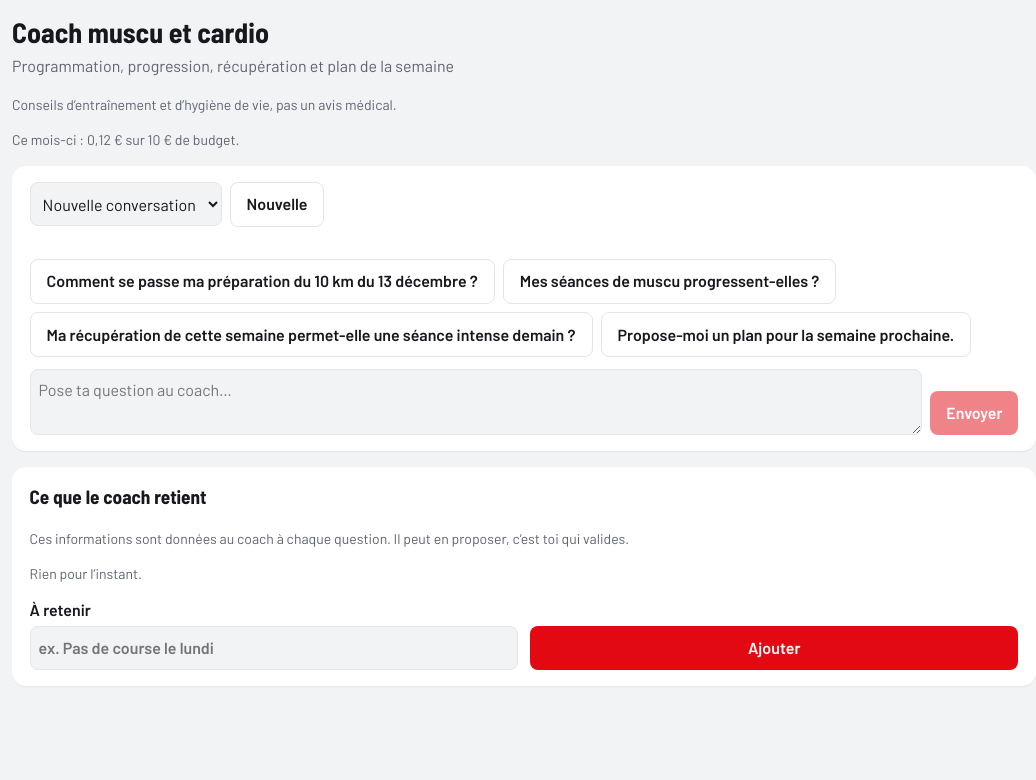
Scenario: CoachPage › streams an answer with the data the coach read, and shows the cost
Check: the text "Ce mois-ci : 0,12 € sur 10 € de budget." is shown, box [12,131,239,148]
Type "Comment je dors ?" into the text box labelled "ta question" at (476, 402), box [30,369,922,435]
Then press Enter
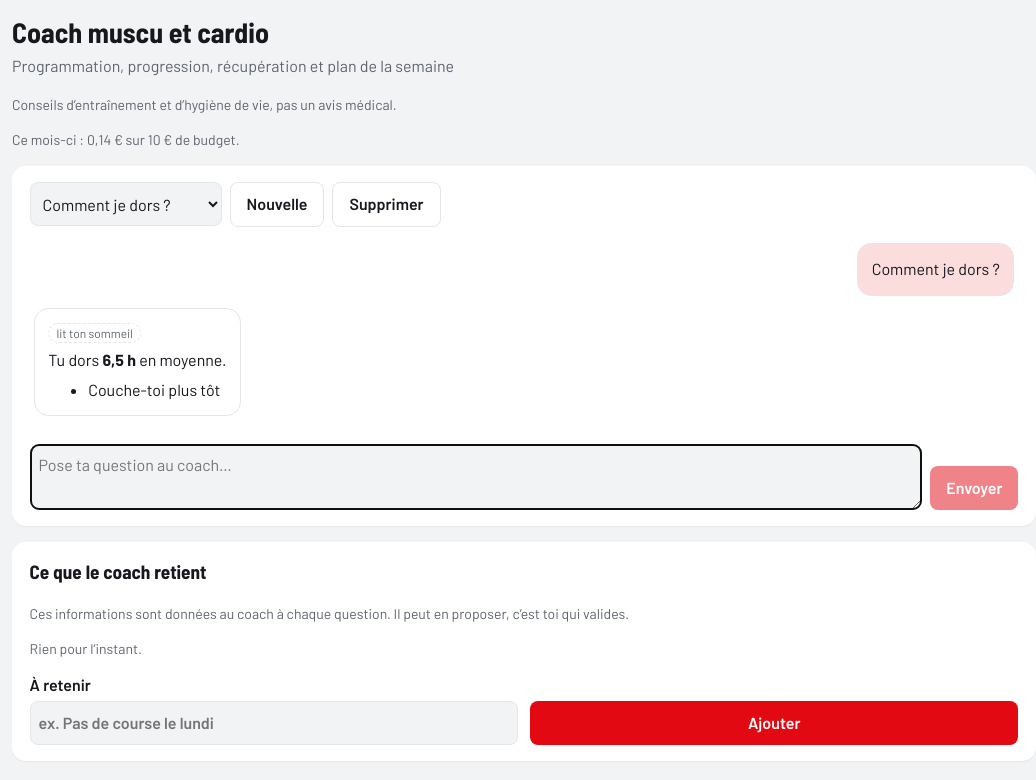
Check: the text "6,5 h" is shown, box [102,350,136,369]
Check: the text "Comment je dors ?" is shown, box [872,257,1000,281]
Check: the list item "lit ton sommeil" is shown, box [48,323,141,343]
